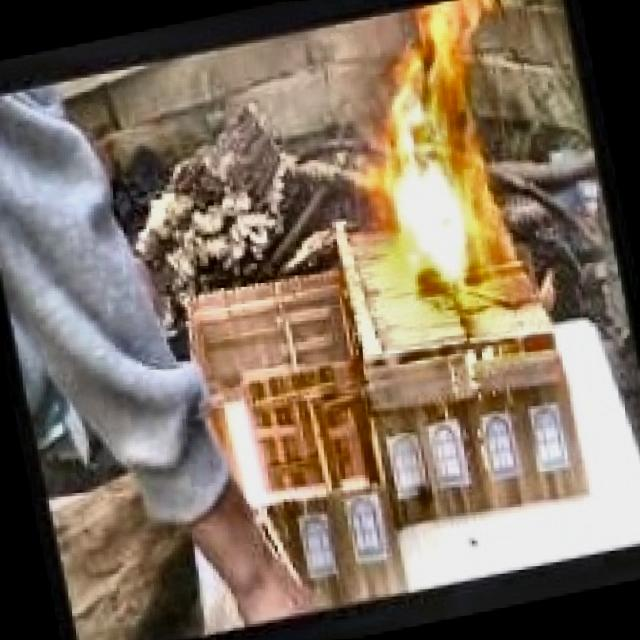fire: (325, 0, 558, 317)
